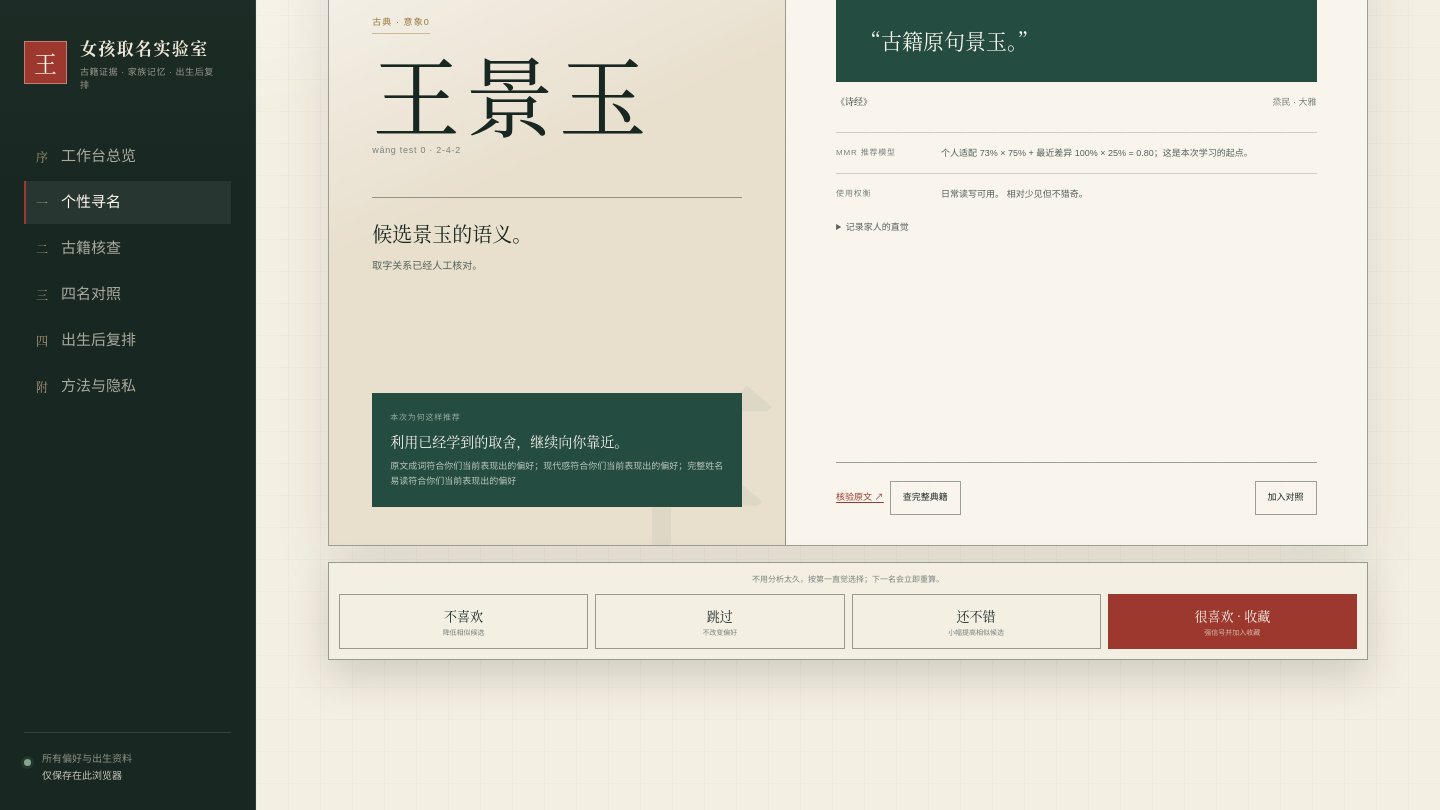
取名实验室应用 › 收藏与对照保留 V2 候选的语义和证据
The image size is (1440, 810).
(page scrolled)
Click the button "加入对照" at (1286, 498), box [1255,481,1317,515]
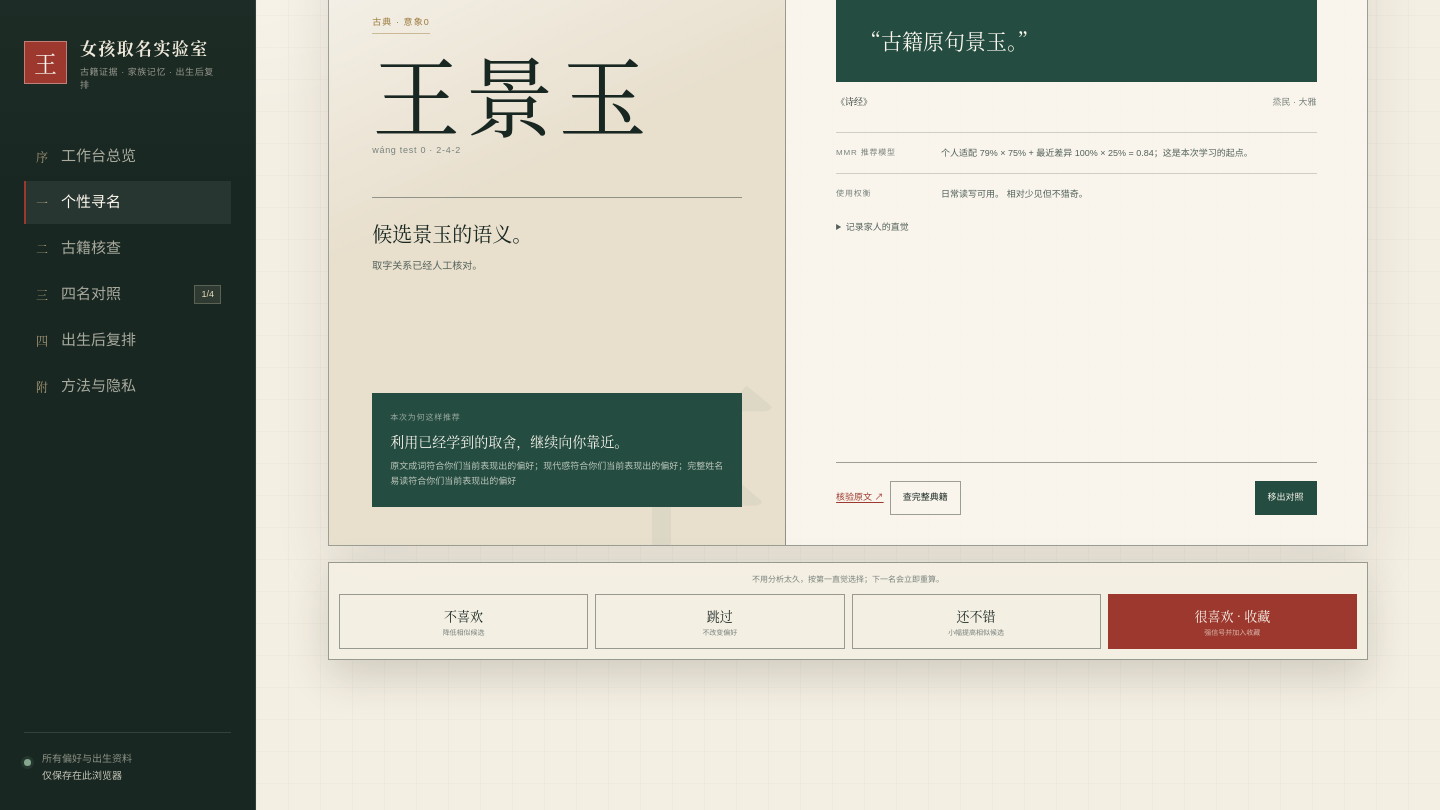
Click the button "很喜欢 · 收藏 强信号并加入收藏" at (1232, 622), box [1108,594,1357,649]
(page scrolled)
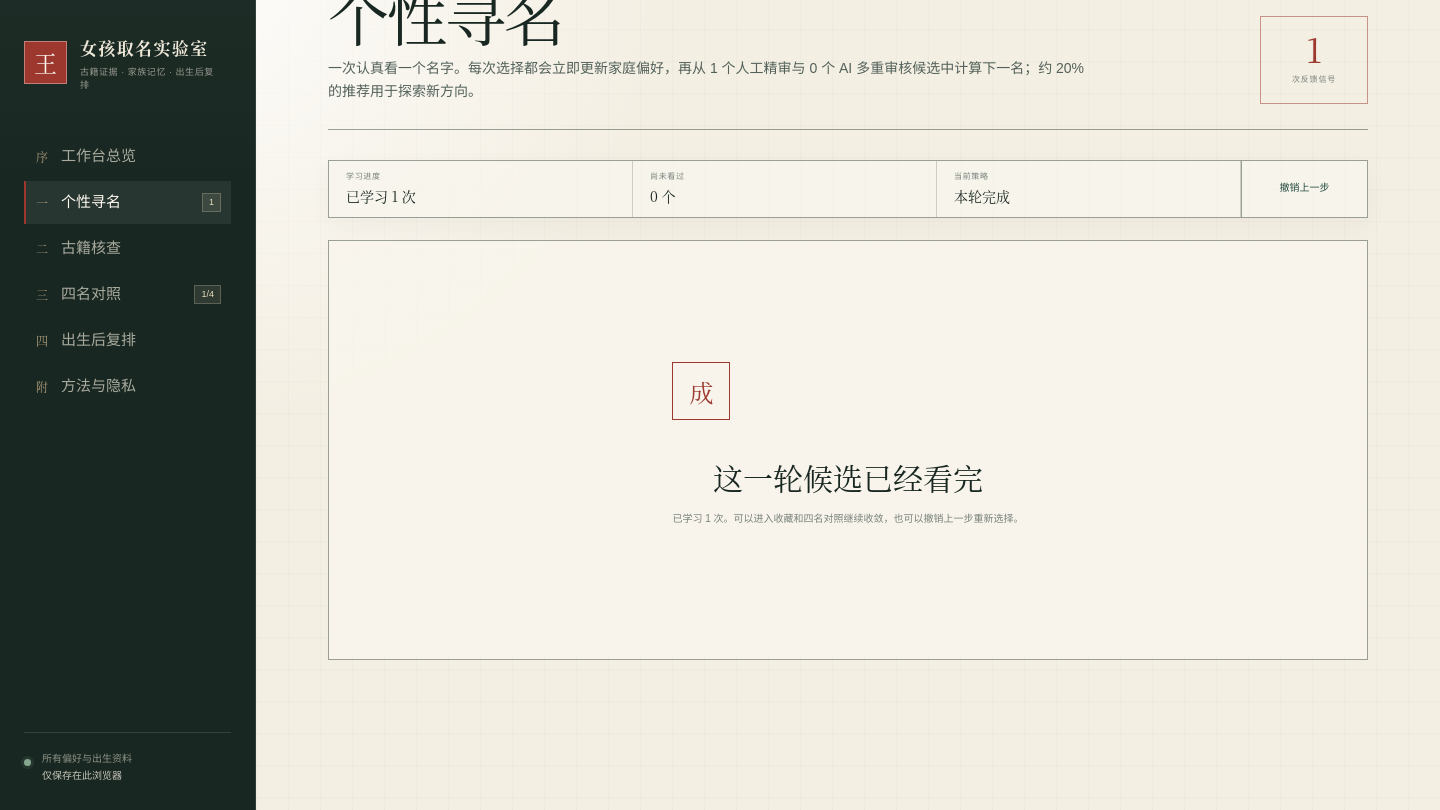
Click the button "三 四名对照 1/4" at (128, 295), box [24,273,231,316]
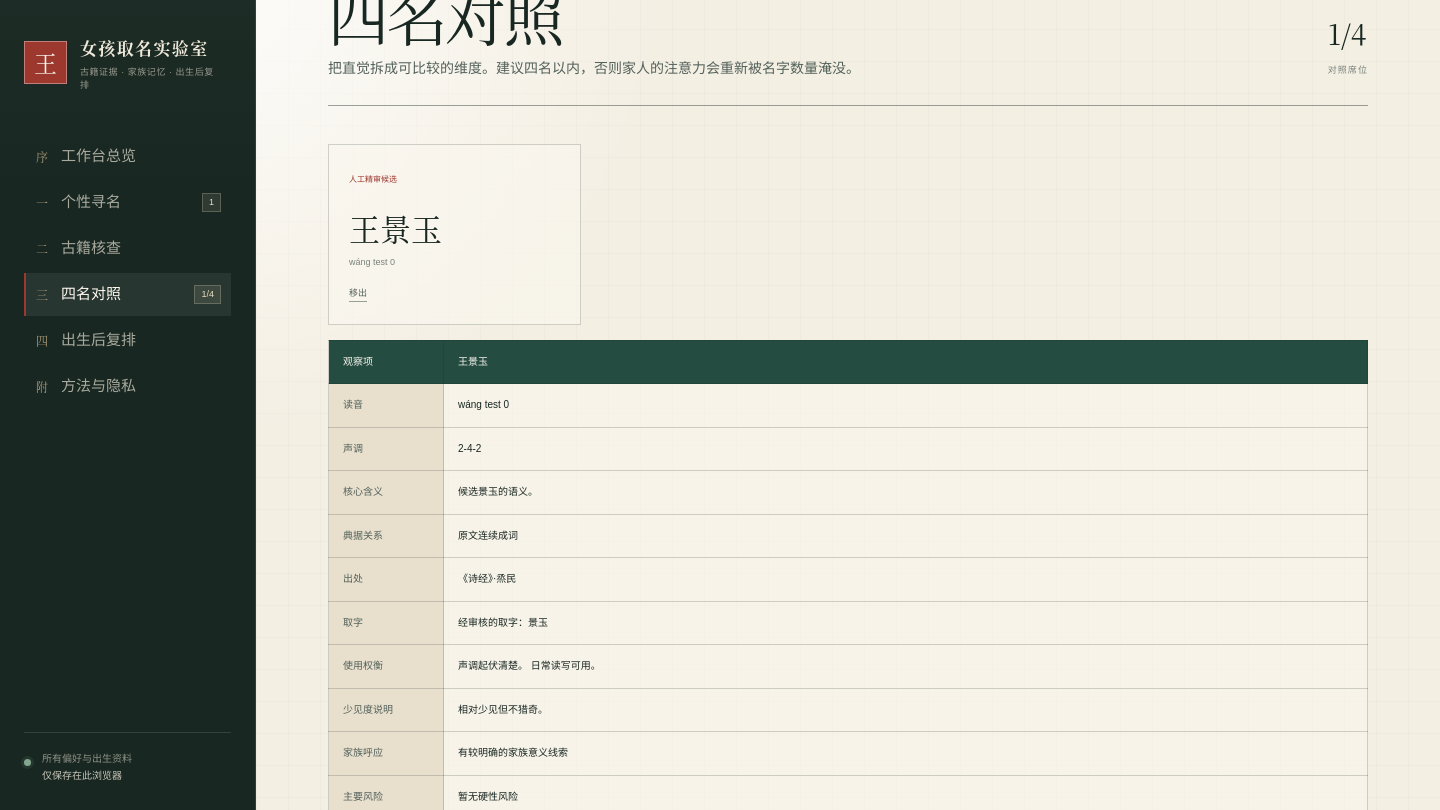
Now the heading "王景玉" is shown, box [349,205,442,250]
Now the text "候选景玉的语义。" is shown, box [444,471,1368,514]
Now the text "原文连续成词" is shown, box [444,514,1368,558]
